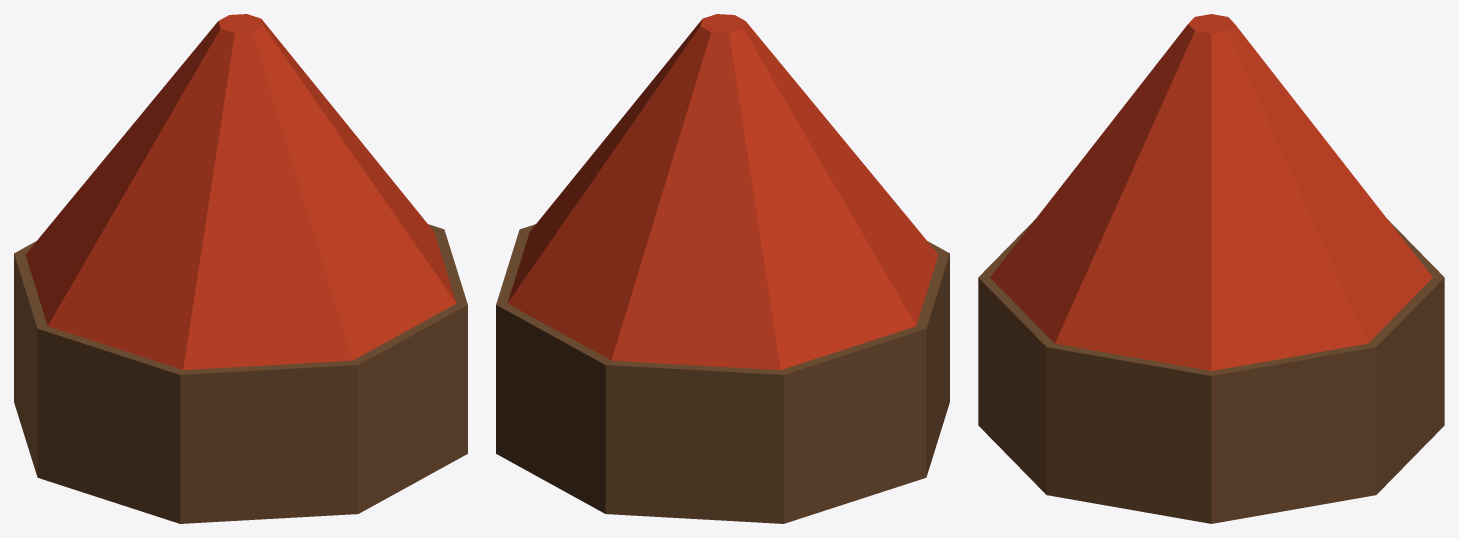
File: spice_pile.glb
3 views of the same model, side by side, from view 1: azimuth 30°, elevation 25°; view 2: azimuth 150°, elevation 25°; view 3: azimuth 270°, elevation 25° (orthographic).
Visible parts, largest first — view 1: spice_pile; view 2: spice_pile; view 3: spice_pile.
Boxes of the visible parts, x1,y1,x2,y2 form: spice_pile: (14, 14, 467, 523); spice_pile: (496, 14, 949, 523); spice_pile: (978, 14, 1444, 523).
Bounding box in the file's own units: 0.4 × 0.38 × 0.4.
